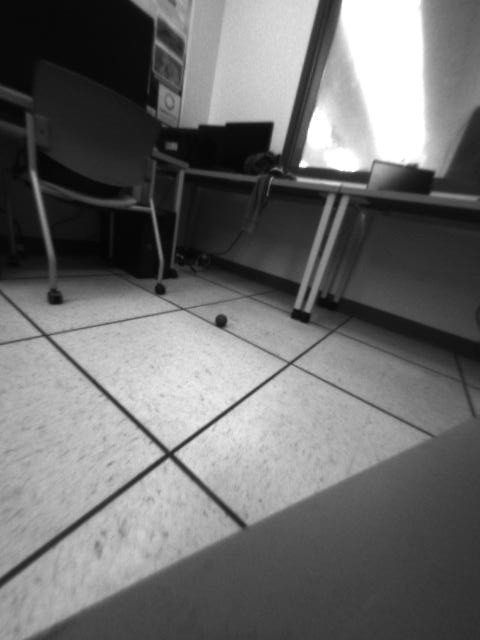dogtoy: (208, 308, 232, 330)
